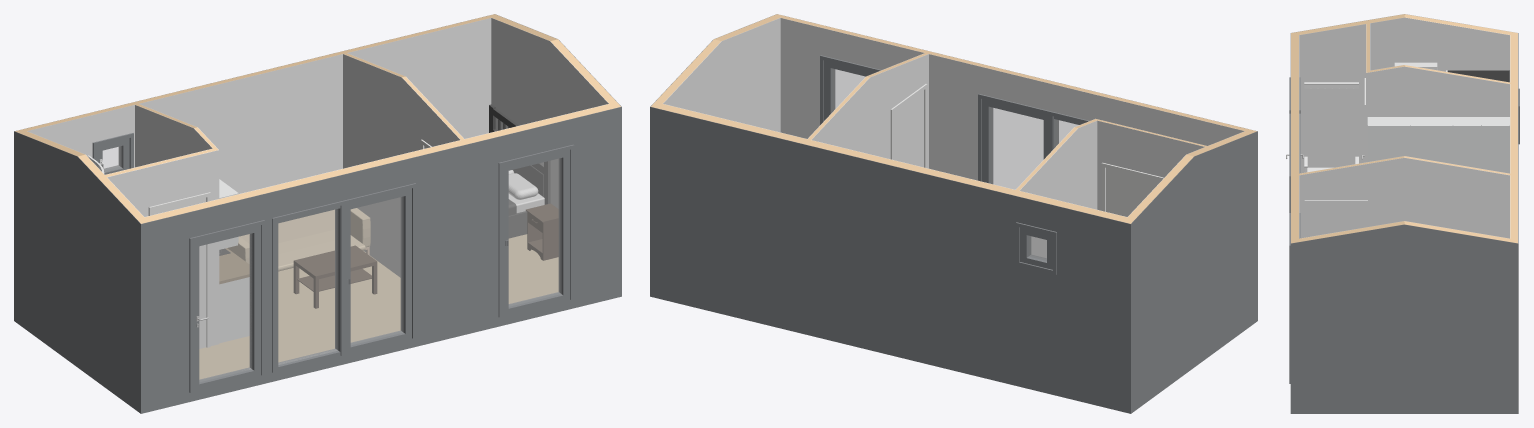
3 renders of one model, left to right at view 1: azimuth 30°, elevation 25°; view 2: azimuth 150°, elevation 25°; view 3: azimuth 270°, elevation 25°, orthographic. The views are drawn at different scales.
Visible parts, largest first — view 1: IfcWall/Part:2319977, IfcWall/Part:2319982, IfcWall/Part:2368366, IfcWindow/Langai (Akrusta):1000x2100x120 (kairinis):2396296, IfcWindow/Langai (Akrusta):1000x2100x120 (kairinis):2408716, IfcDoor/Durys išorinės:1000x2100x120 (dešininės):2387746, IfcSlab/Part:2319985, IfcWindow/Langai (Akrusta):1000x2100x120:2408715, IfcWall/Part:2319968, IfcWall/Part:2319979, IfcWall/Part:2581487, IfcFurnishingElement/Bolia - North Seater Sofa:2 1/2 Seater: (+12 smaller); view 2: IfcWall/Part:2319983, IfcWall/Part:2368366, IfcWall/Part:2319976, IfcWall/Part:2319979, IfcWindow/Langai (Akrusta):1000x2100x120 (kairinis):2408716, IfcWall/Part:2319968, IfcWall/Part:2581485, IfcWall/Part:2581488, IfcWall/Part:2319984, IfcDoor/Durys vidinės:800x2100 x 120 (dešininės):2581107, IfcDoor/Durys vidinės:800x2100 x 120 (kairinės):2580712, IfcWindow/Langai (Akrusta):1000x2100x120 (kairinis):2396296 (+5 smaller); view 3: IfcWall/Part:2319980, IfcWall/Part:2368365, IfcWall/Part:2319967, IfcWall/Part:2581484, IfcDoor/Durys vidinės:800x2100 x 120 (dešininės):2581107, IfcWall/Part:2319984, IfcWall/Part:2319978, IfcFurnishingElement/Spintelių durelės (neskaičiuoti):60, IfcFurnishingElement/Spintelių durelės (neskaičiuoti):60.001, IfcFurnishingElement/Spintelių durelės (neskaičiuoti):40, IfcFurnishingElement/Spintelių durelės (neskaičiuoti):400mm:, IfcWall/Part:2319981 (+11 smaller).
Boxes of the visible parts, x1,y1,x2,y2 form: IfcWall/Part:2319977: (141,107,621,413); IfcWall/Part:2319982: (27,18,491,193); IfcWall/Part:2368366: (14,131,140,413); IfcWindow/Langai (Akrusta):1000x2100x120 (kairinis):2396296: (498,144,574,317); IfcWindow/Langai (Akrusta):1000x2100x120 (kairinis):2408716: (335,183,416,355); IfcDoor/Durys išorinės:1000x2100x120 (dešininės):2387746: (189,220,264,392); IfcSlab/Part:2319985: (199,234,558,379); IfcWindow/Langai (Akrusta):1000x2100x120:2408715: (272,201,347,372); IfcWall/Part:2319968: (343,54,460,277); IfcWall/Part:2319979: (491,18,608,208); IfcWall/Part:2581487: (107,150,219,345); IfcFurnishingElement/Bolia - North Seater Sofa:2 1/2 Seater:: (227,208,370,271); IfcWall/Part:2319983: (650,106,1130,413); IfcWall/Part:2368366: (1131,131,1257,413); IfcWall/Part:2319976: (780,18,1244,180); IfcWall/Part:2319979: (663,18,780,132); IfcWindow/Langai (Akrusta):1000x2100x120 (kairinis):2408716: (978,94,1058,189); IfcWall/Part:2319968: (811,54,928,168); IfcWall/Part:2581485: (1019,121,1097,258); IfcWall/Part:2581488: (1097,120,1204,210); IfcWall/Part:2319984: (651,102,1134,223); IfcDoor/Durys vidinės:800x2100 x 120 (dešininės):2581107: (890,84,927,167); IfcDoor/Durys vidinės:800x2100 x 120 (kairinės):2580712: (1101,162,1163,216); IfcWindow/Langai (Akrusta):1000x2100x120 (kairinis):2396296: (820,55,881,124); IfcWall/Part:2319980: (1290,224,1517,413); IfcWall/Part:2368365: (1299,17,1509,173); IfcWall/Part:2319967: (1299,157,1509,238); IfcWall/Part:2581484: (1366,66,1509,173); IfcDoor/Durys vidinės:800x2100 x 120 (dešininės):2581107: (1304,200,1367,237); IfcWall/Part:2319984: (1510,32,1517,243); IfcWall/Part:2319978: (1291,32,1298,239); IfcFurnishingElement/Spintelių durelės (neskaičiuoti):60: (1410,125,1452,163); IfcFurnishingElement/Spintelių durelės (neskaičiuoti):60.001: (1368,125,1409,161); IfcFurnishingElement/Spintelių durelės (neskaičiuoti):40: (1482,125,1509,171); IfcFurnishingElement/Spintelių durelės (neskaičiuoti):400mm:: (1453,125,1480,168); IfcWall/Part:2319981: (1291,221,1510,243).
Bounding box in the file's own units: 700 × 294 × 329.
